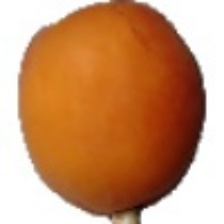apricot: (9, 20, 183, 200)
